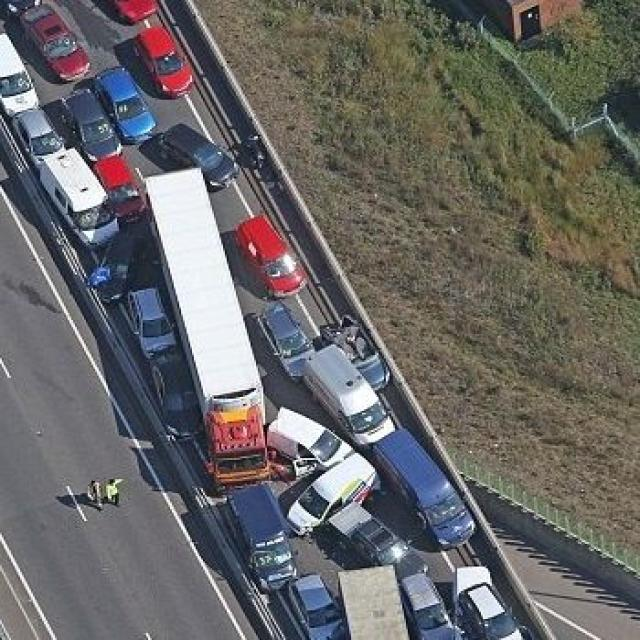traffic_incident: (243, 316, 479, 610)
